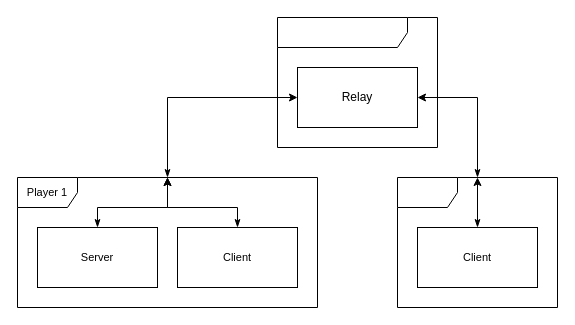
Image size: 575x325. Some labels were removed from this diagram. Here are the shapes that lost their labels. From the top down, the box of each, then its label:
(276, 16, 438, 148): Unity Gaming Services
(396, 176, 558, 308): Player 2
